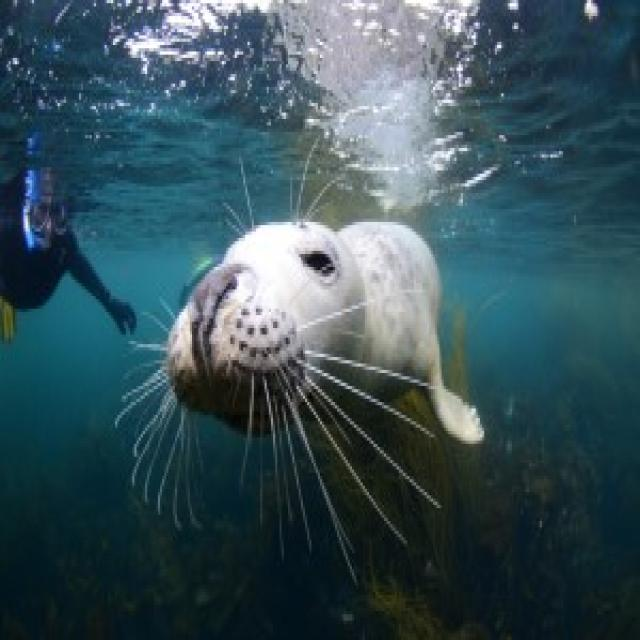Seal: (168, 188, 499, 470)
